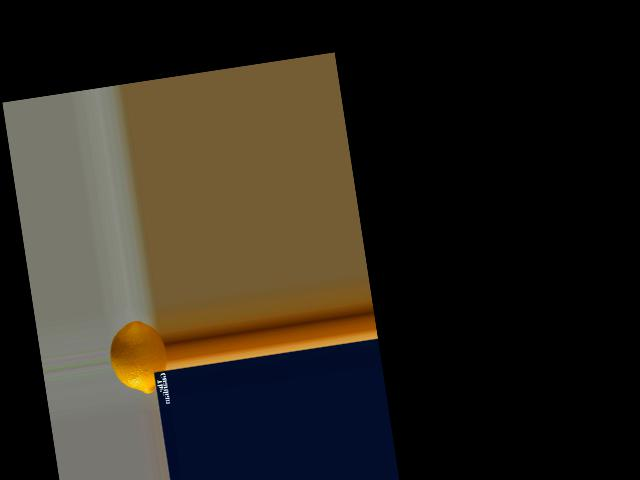lemon: (105, 313, 172, 402)
